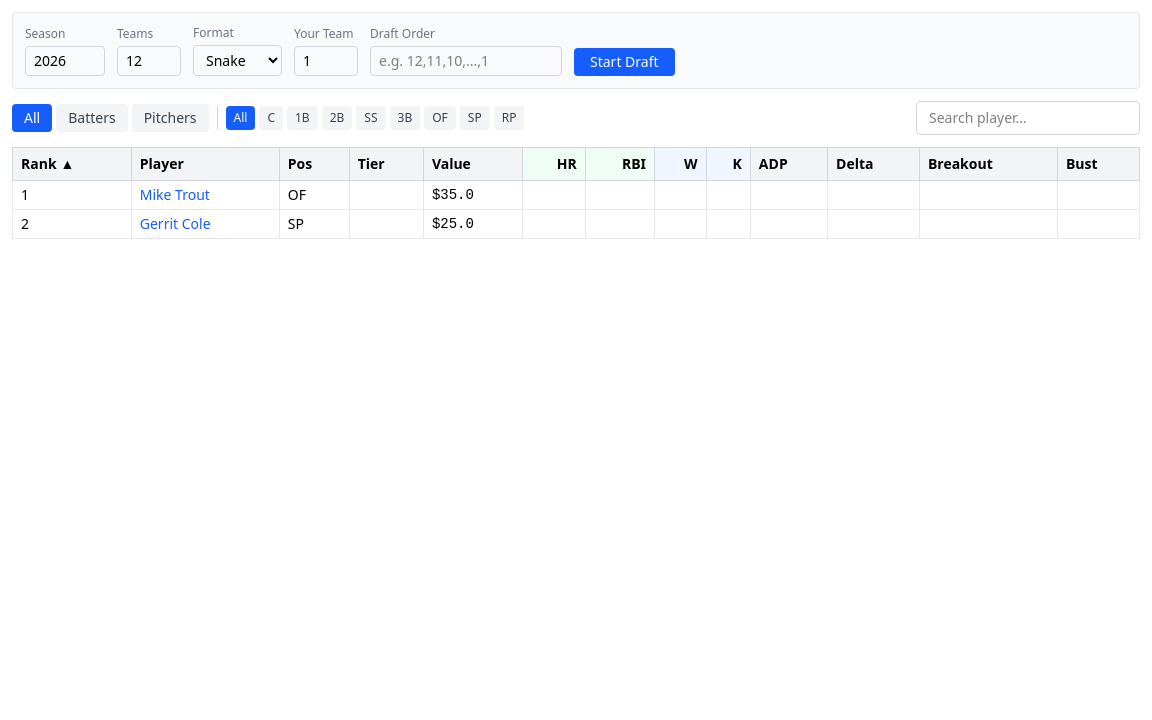
Test: DraftDashboard › undoes a pick
What coordinates should you click on to do the following:
click the button "Start Draft"
I would click on:
 (624, 62)
Its box is [574,48,674,76].
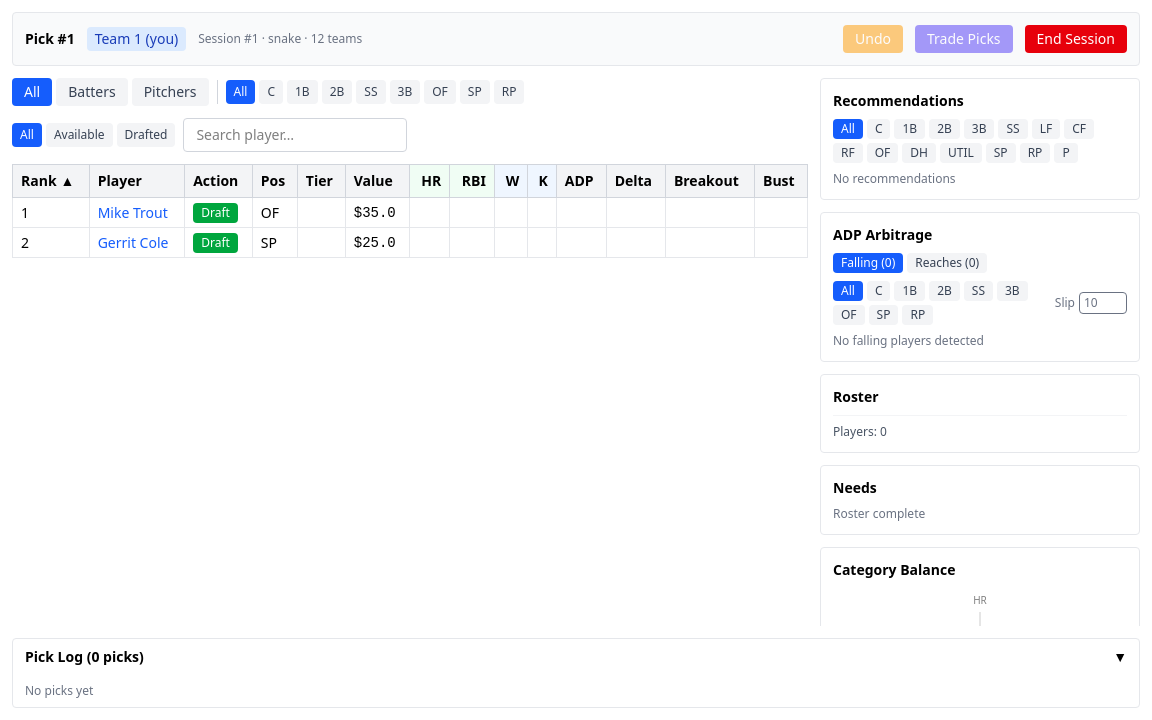
What coordinates should you click on to do the following:
click the button "Draft" in the row of "35.0"
I would click on:
 (216, 213)
Its box is [193,203,238,223].
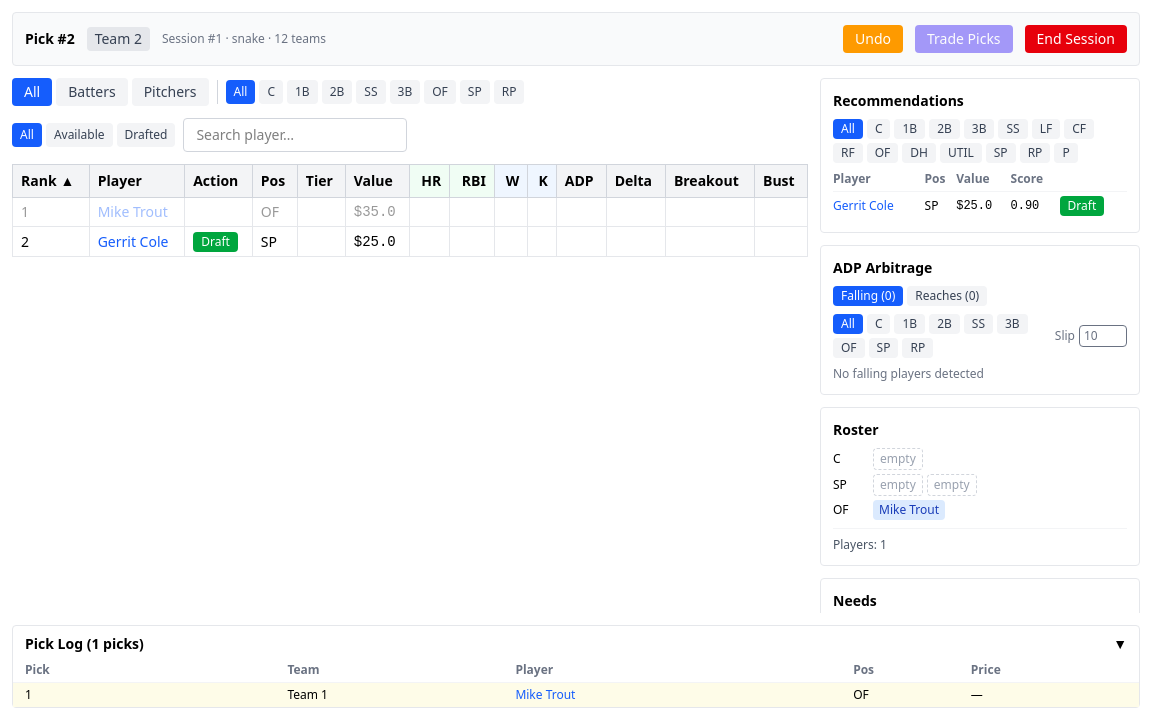
What coordinates should you click on to do the following:
click the button "Undo"
I would click on:
 (873, 39)
Its box is [843,25,903,53].
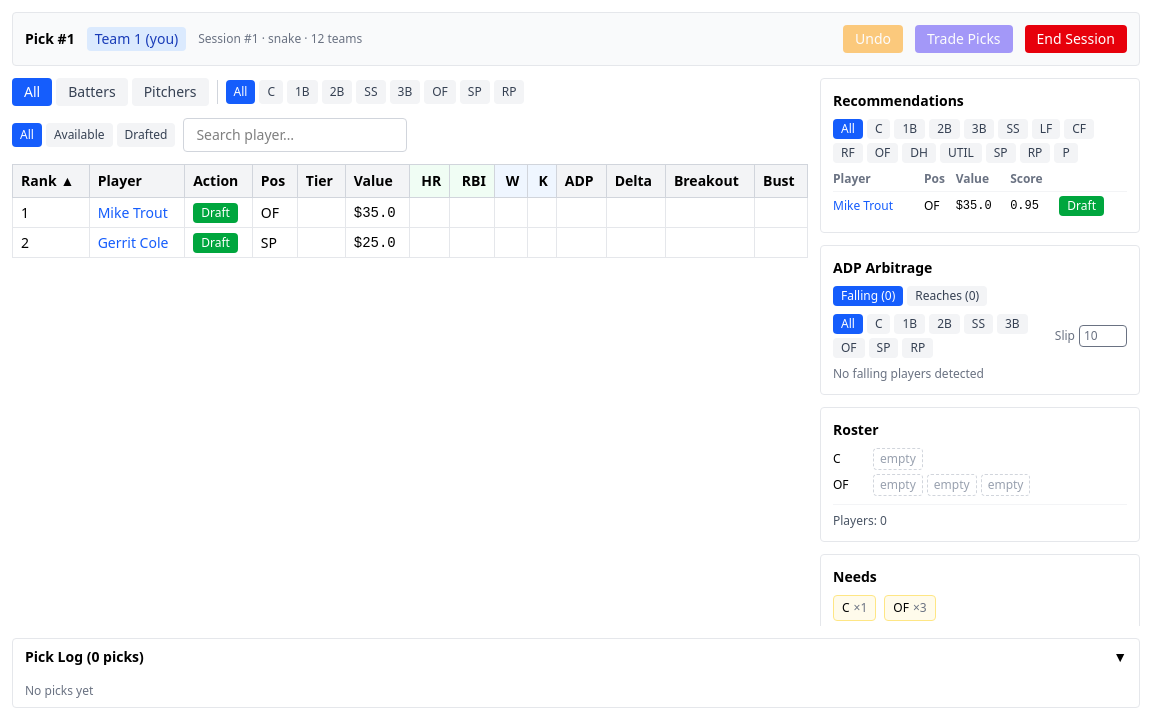
Now the text "Pick #1" is shown, box [25,29,75,49]
